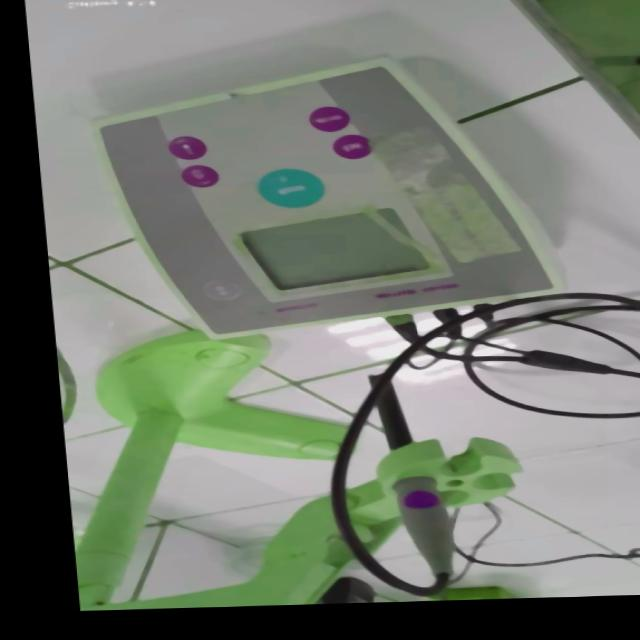PH meter: (64, 0, 640, 593)
